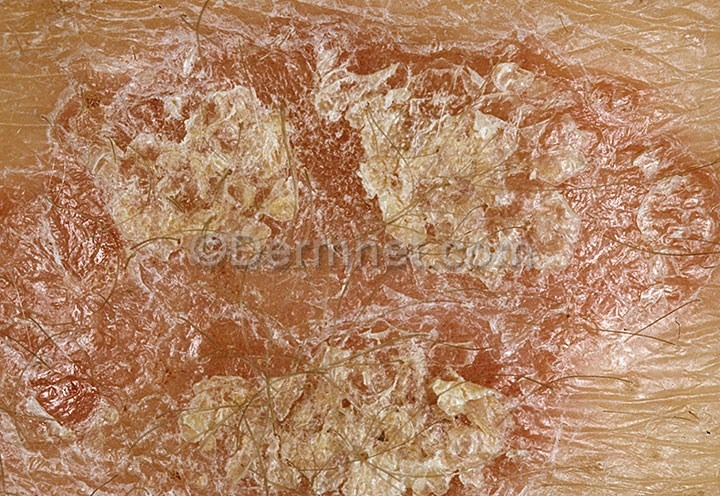Psoriasis: (24, 42, 659, 474)
